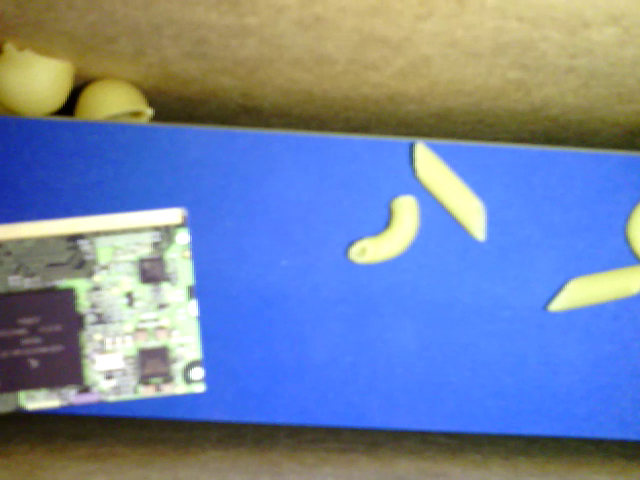elbow: (348, 194, 420, 264)
penne: (415, 142, 486, 244), (548, 264, 639, 311)
shell: (1, 43, 74, 114), (73, 80, 152, 122)
